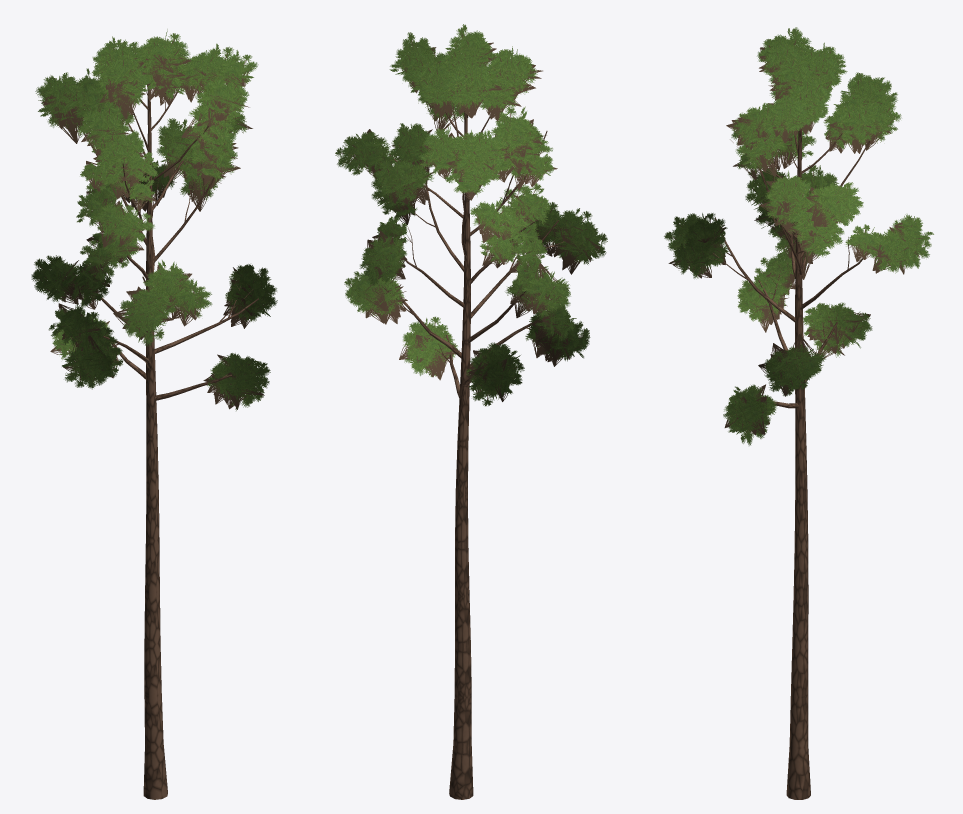
Rendered from veg_loblolly_pine_a.fbx.
3 views of the same model, side by side, from view 1: azimuth 30°, elevation 25°; view 2: azimuth 150°, elevation 25°; view 3: azimuth 270°, elevation 25° (orthographic). The views are drawn at different scales.
Visible parts, largest first — view 1: veg_loblolly_pine_a_LOD0; view 2: veg_loblolly_pine_a_LOD0; view 3: veg_loblolly_pine_a_LOD0.
Part boxes in pixels (x1,y1,x2,y2): veg_loblolly_pine_a_LOD0: (31, 29, 277, 799); veg_loblolly_pine_a_LOD0: (335, 24, 607, 799); veg_loblolly_pine_a_LOD0: (664, 27, 933, 799).
Size of what is drawn, in the model's own units: 10.54 by 30.78 by 10.92.
Materials: 2 (2 with a texture image).
